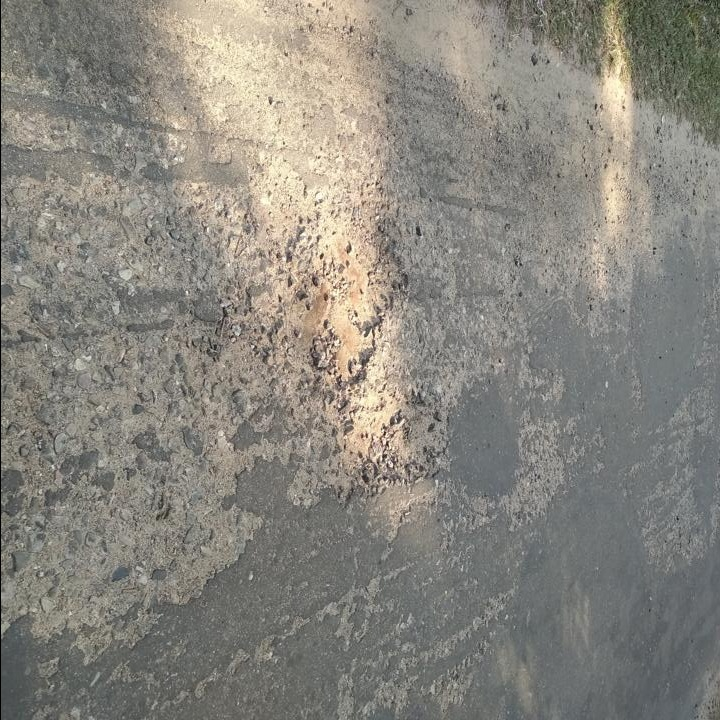pothole: (271, 195, 410, 387), (329, 381, 448, 496)
